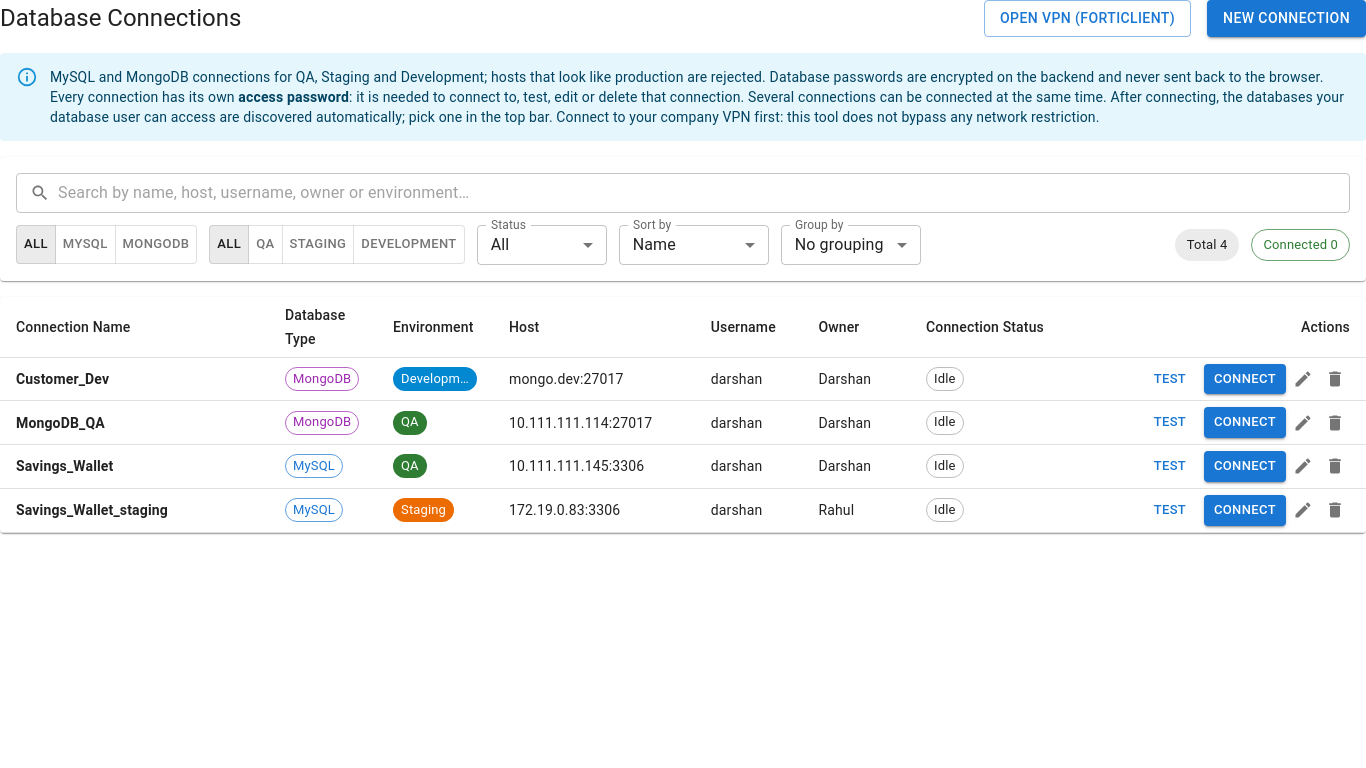
Test: connect lifecycle and feedback › asks for the access password, shows Connecting, then a success toast naming the connection and the databases found
This screenshot has width=1366, height=768.
Expected: the text "Savings_Wallet" is shown, [16,458,114,474]
Click the button "Connect" in the row of "10.111.111.145": coordinates (1245, 466) [1204,451,1286,482]
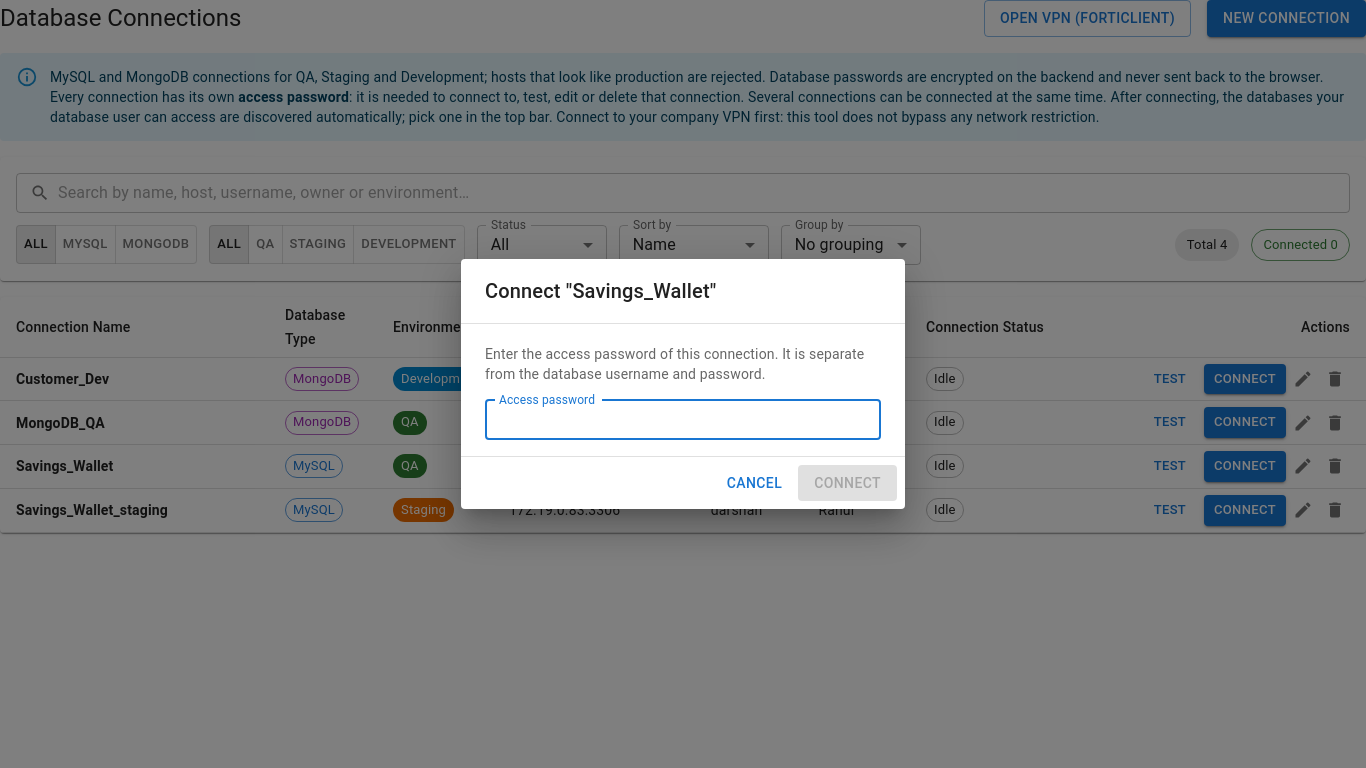
In the password field labelled "Access password": coordinates (683, 420) [485,400,881,440], type "open-sesame"
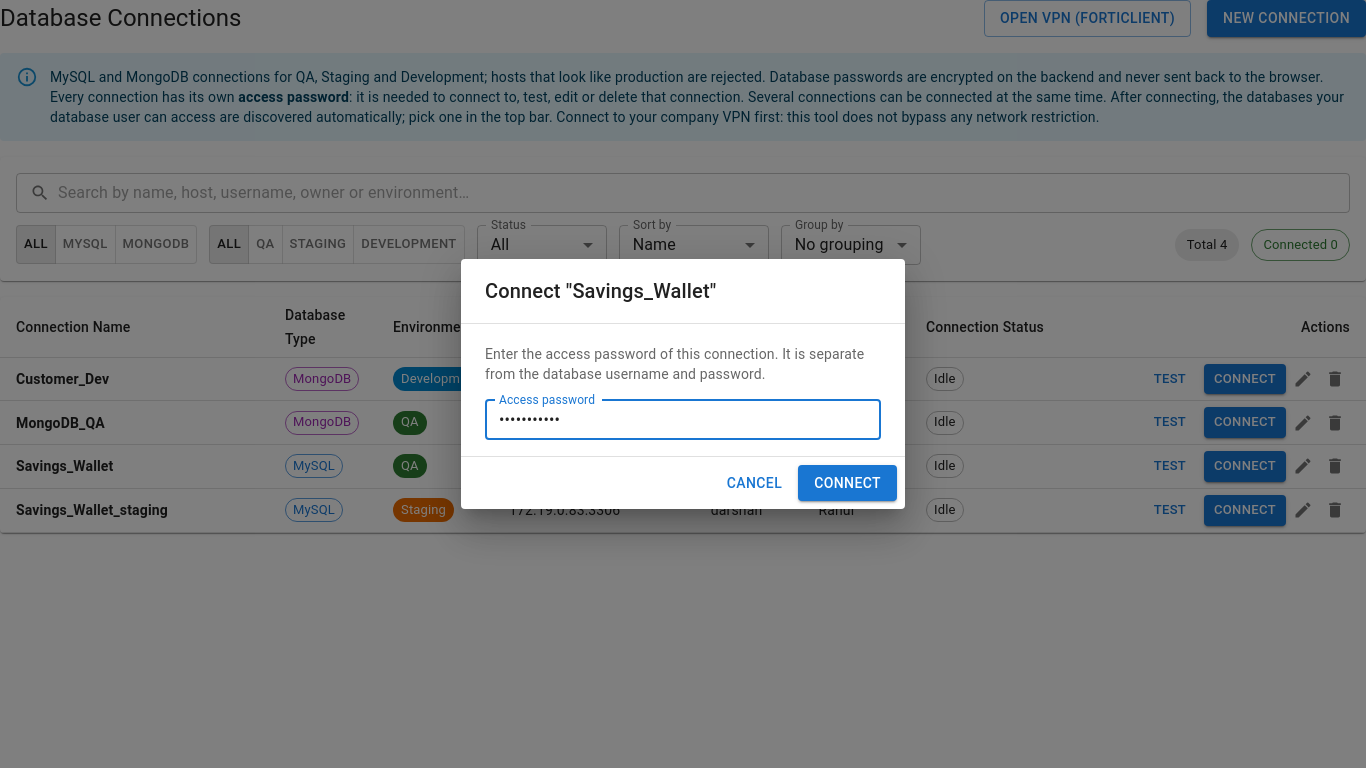
Click the button "Connect": coordinates (848, 483) [798,465,897,501]
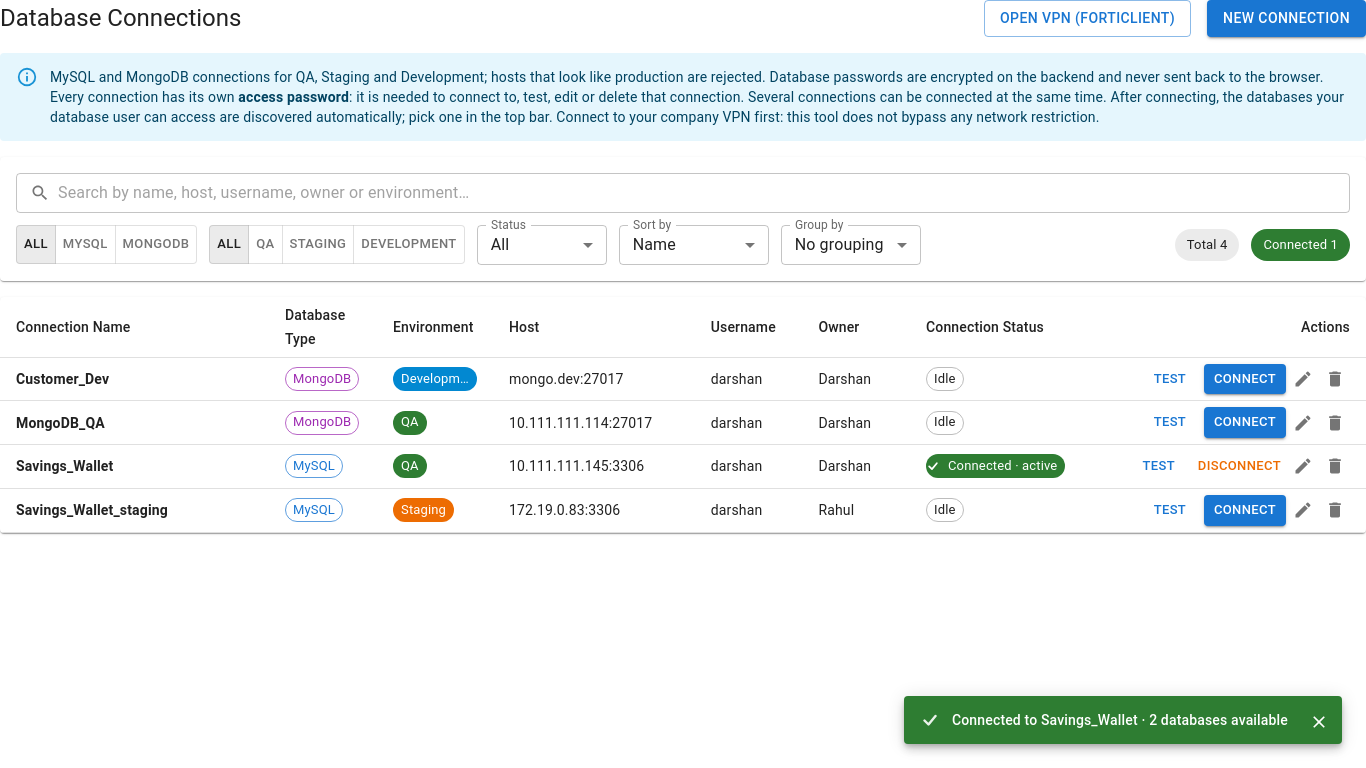
Expected: the text "Connected to Savings_Wallet · 2 databases available" is shown, [904,696,1342,744]
Expected: the text "Connected · active" is shown, [940,457,1065,476]
